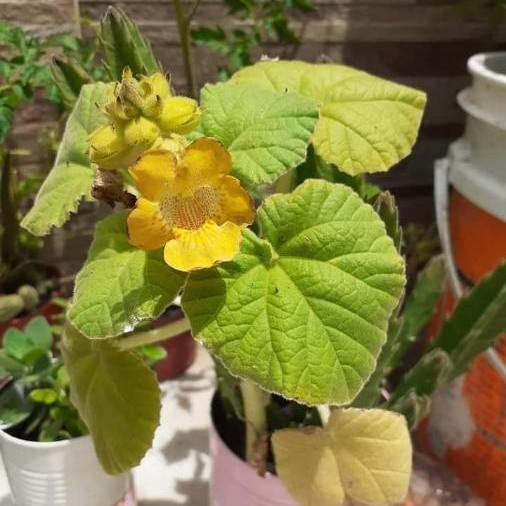obstacle: (21, 62, 443, 427)
